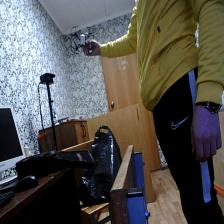drone: (70, 22, 97, 58)
